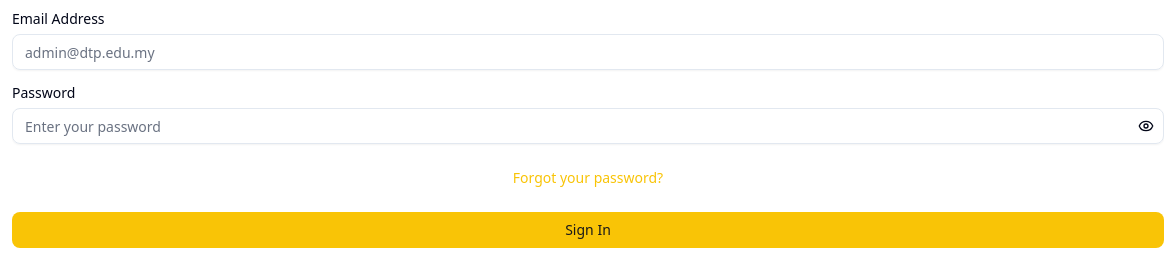
Test: LoginForm › shows loading state during form submission
Type "test@example.com" into the field labelled "Email Address" at [588, 52], box top-left (12, 34), bottom-right (1164, 70)
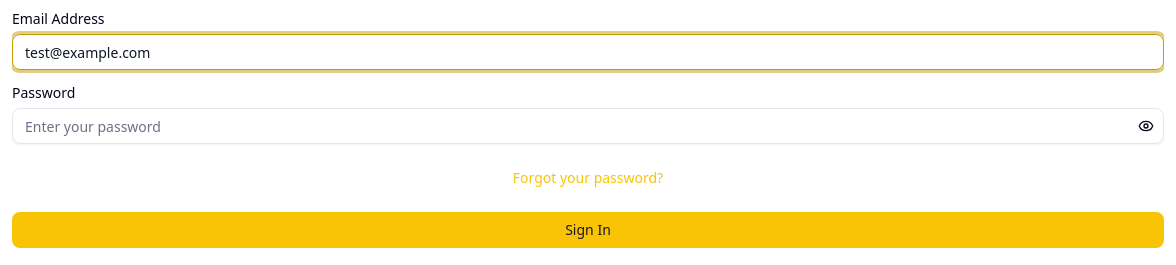
Type "password123" into the password field with placeholder "Enter your password" at [588, 126], box top-left (12, 108), bottom-right (1164, 144)
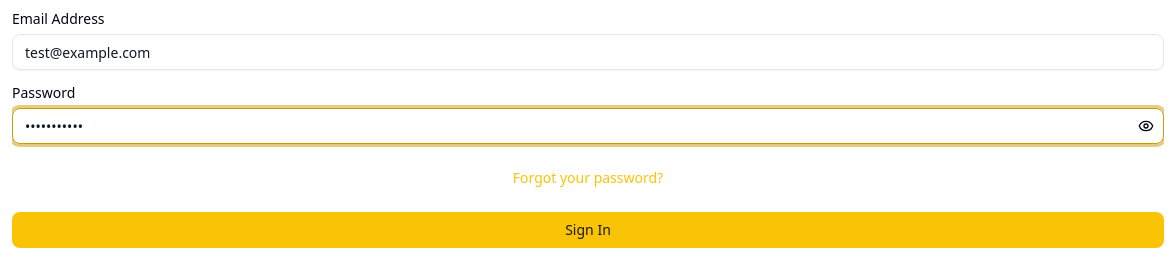
Click the button "Sign In" at [588, 230], box top-left (12, 212), bottom-right (1164, 248)
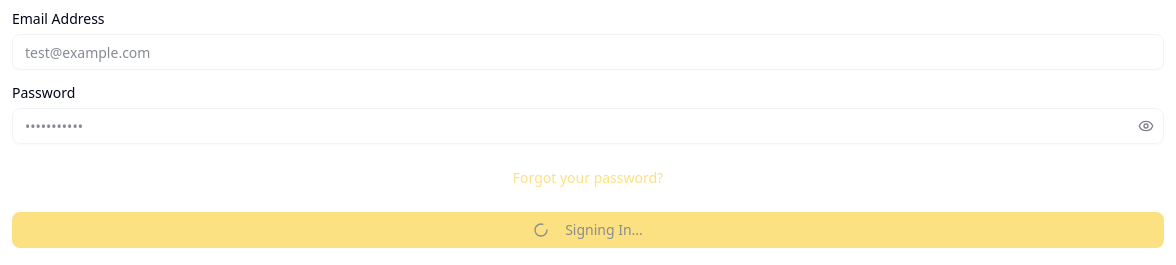
Check: the button "Signing In..." is disabled, box top-left (12, 212), bottom-right (1164, 248)
